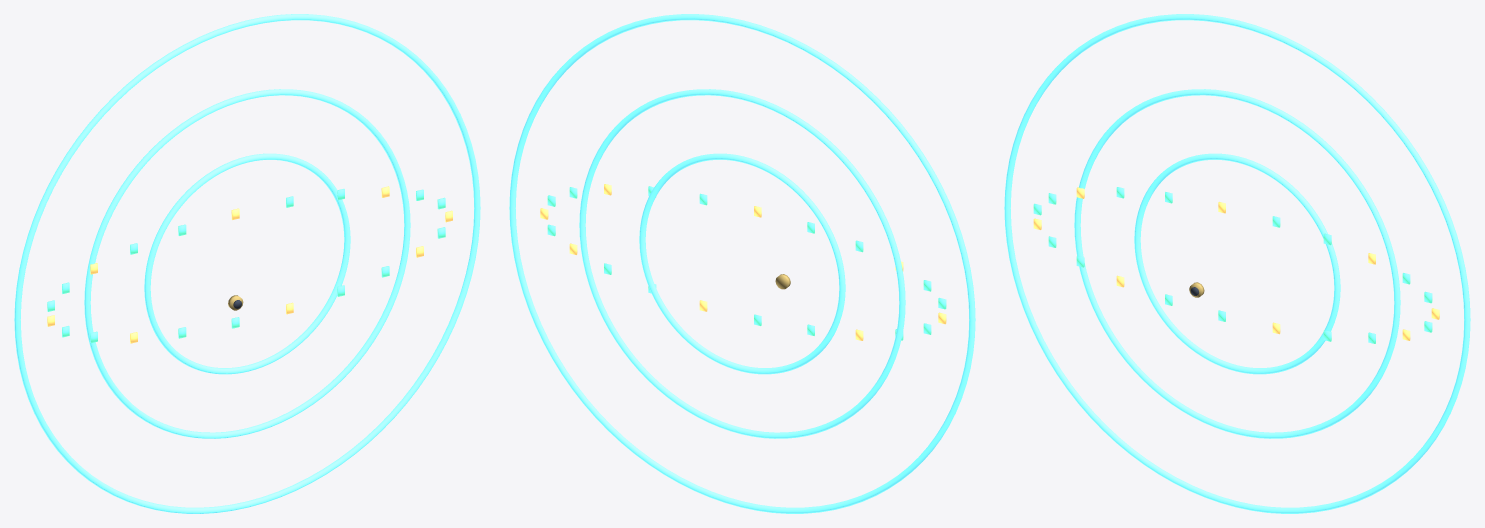
File: 14_L85_RelativeOrbitTrajectoryHologram.glb
3 views of the same model, side by side, from view 1: azimuth 30°, elevation 25°; view 2: azimuth 150°, elevation 25°; view 3: azimuth 330°, elevation 25° (orthographic).
Parts seen in each view (by area): view 1: L85_RelativeOrbitTrajectoryHo_Part_0000, L85_RelativeOrbitTrajectoryHo_Part_0002, L85_RelativeOrbitTrajectoryHo_Part_0001; view 2: L85_RelativeOrbitTrajectoryHo_Part_0000, L85_RelativeOrbitTrajectoryHo_Part_0002, L85_RelativeOrbitTrajectoryHo_Part_0001; view 3: L85_RelativeOrbitTrajectoryHo_Part_0000, L85_RelativeOrbitTrajectoryHo_Part_0002, L85_RelativeOrbitTrajectoryHo_Part_0001.
Part boxes in pixels (x1,y1,x2,y2): L85_RelativeOrbitTrajectoryHo_Part_0000: [14, 14, 480, 513]; L85_RelativeOrbitTrajectoryHo_Part_0002: [47, 189, 445, 343]; L85_RelativeOrbitTrajectoryHo_Part_0001: [47, 186, 452, 343]; L85_RelativeOrbitTrajectoryHo_Part_0000: [509, 14, 975, 513]; L85_RelativeOrbitTrajectoryHo_Part_0002: [547, 186, 946, 340]; L85_RelativeOrbitTrajectoryHo_Part_0001: [540, 184, 946, 340]; L85_RelativeOrbitTrajectoryHo_Part_0000: [1004, 14, 1470, 513]; L85_RelativeOrbitTrajectoryHo_Part_0002: [1033, 187, 1432, 343]; L85_RelativeOrbitTrajectoryHo_Part_0001: [1033, 187, 1439, 340].
Bounding box in the file's own units: 4.66 × 4.66 × 0.3196.
